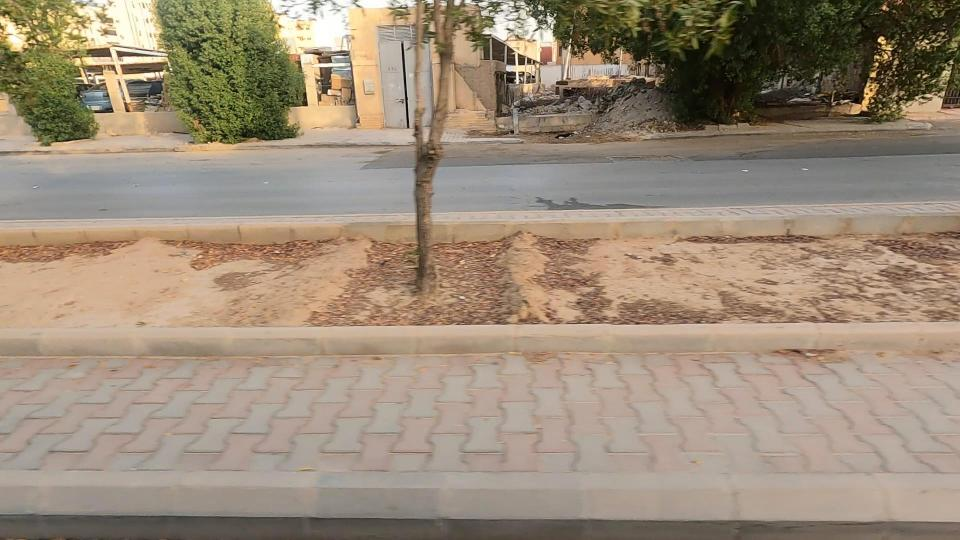CLUTTER_SIDEWALK: (314, 194, 960, 361), (0, 199, 593, 358)
